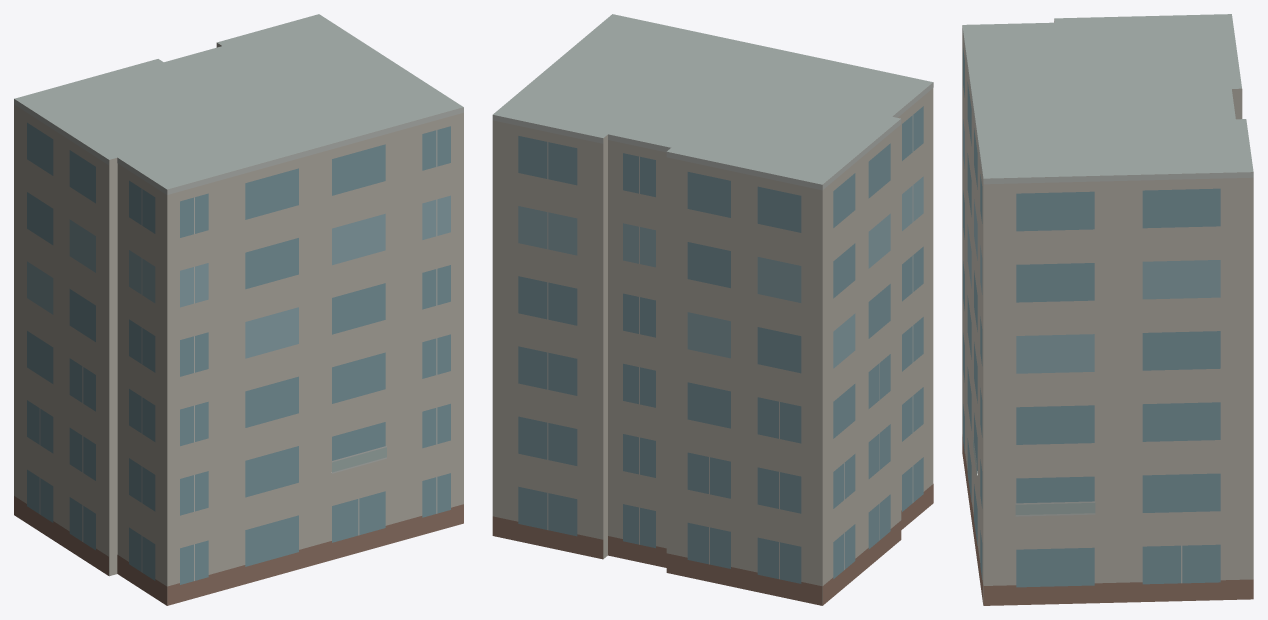
Rendered from survey-upis-32705869.glb.
3 renders of one model, left to right at view 1: azimuth 30°, elevation 25°; view 2: azimuth 150°, elevation 25°; view 3: azimuth 270°, elevation 25°, orthographic. The views are drawn at different scales.
Visible parts, largest first — view 1: survey-upis-32705869.tmp; view 2: survey-upis-32705869.tmp; view 3: survey-upis-32705869.tmp.
Part boxes in pixels (bbox=[...]): survey-upis-32705869.tmp: bbox=[14, 14, 463, 605]; survey-upis-32705869.tmp: bbox=[492, 14, 933, 605]; survey-upis-32705869.tmp: bbox=[962, 14, 1253, 605].
Bounding box in the file's own units: 15.13 × 18.3 × 11.32.
